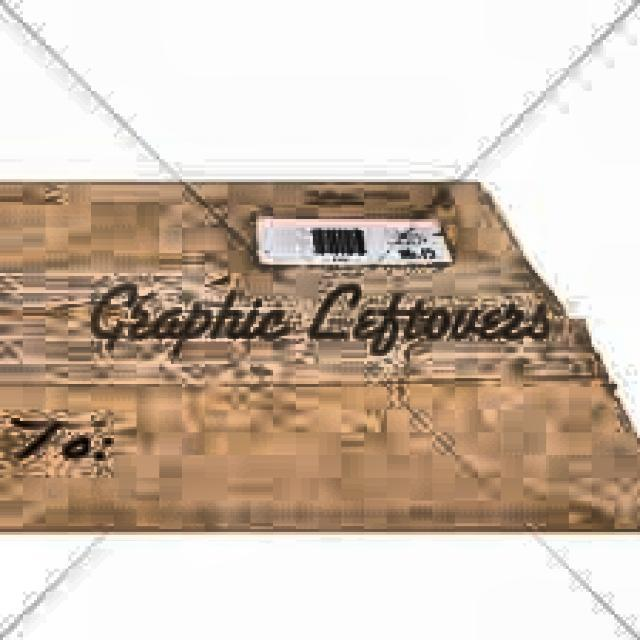cardboard: (0, 173, 637, 534)
